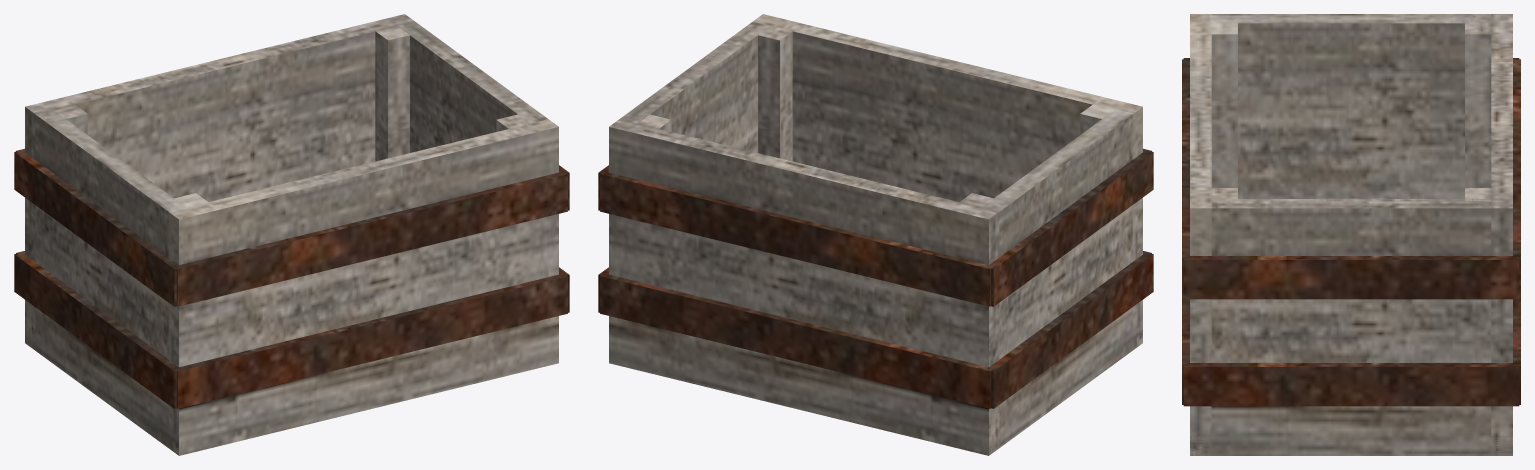
Rendered from open_crate_tex.glb.
The picture shows the model from 3 angles, left to right: view 1: azimuth 30°, elevation 25°; view 2: azimuth 150°, elevation 25°; view 3: azimuth 270°, elevation 25°; orthographic projection. The views are drawn at different scales.
Parts seen in each view (by area): view 1: open_crate; view 2: open_crate; view 3: open_crate.
Boxes of the visible parts, x1=… form: open_crate: x1=14, y1=14, x2=569, y2=455; open_crate: x1=598, y1=14, x2=1153, y2=455; open_crate: x1=1182, y1=14, x2=1520, y2=455.
Size of the model in its own units: 0.7698 by 0.44 by 0.5454.
Materials: 1 (1 with a texture image).
